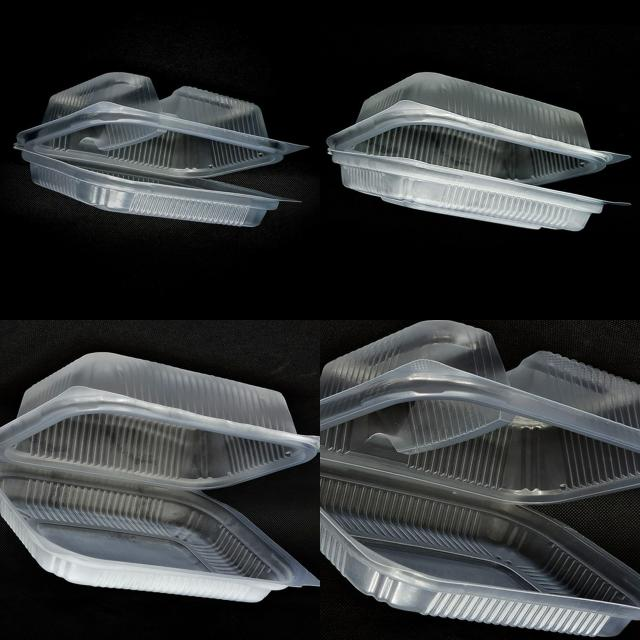Single-Use-Plastic: (320, 320, 640, 635), (0, 352, 319, 601), (328, 72, 628, 230), (15, 72, 305, 226)
